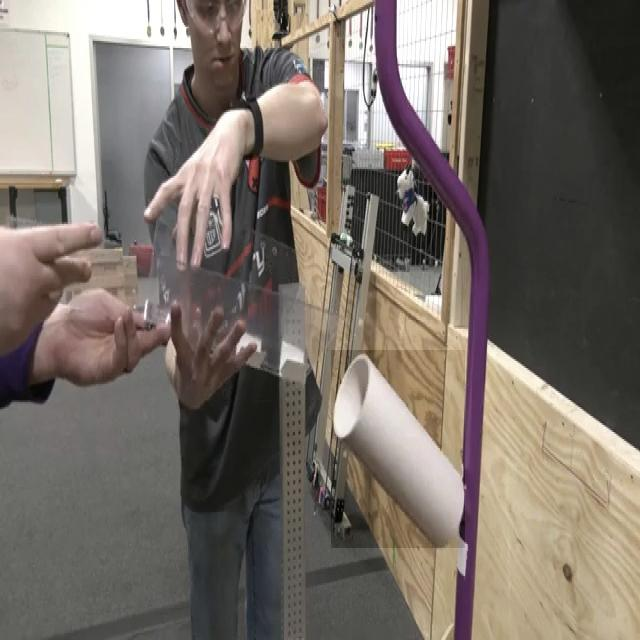Coral: (331, 350, 465, 548)
